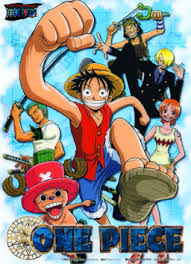chopper: (2, 158, 87, 220)
luffy: (62, 63, 125, 111)
